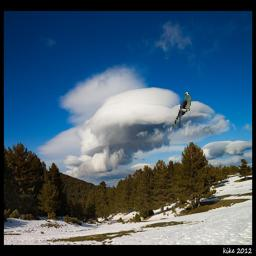Cuckoo: (171, 92, 192, 129)
